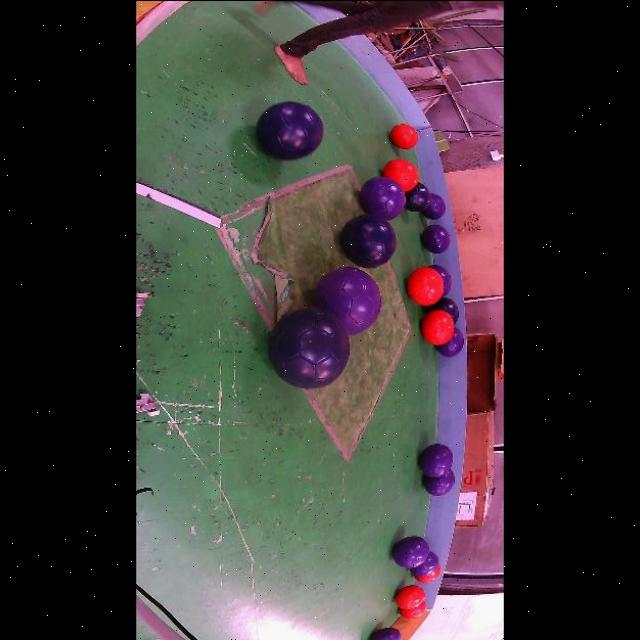B: (269, 307, 349, 389), (256, 100, 324, 159), (341, 214, 396, 268), (430, 296, 459, 323), (405, 181, 431, 210), (371, 627, 402, 640)
P: (313, 266, 381, 334), (359, 176, 405, 219), (393, 535, 430, 568), (419, 443, 453, 476), (435, 326, 464, 356), (423, 468, 454, 495), (422, 224, 450, 252), (409, 550, 439, 576), (429, 264, 451, 296), (421, 192, 446, 219)
R: (407, 266, 444, 305), (382, 158, 418, 191), (421, 308, 454, 344), (395, 585, 426, 609), (390, 123, 418, 149), (398, 600, 426, 618), (415, 564, 441, 582)
